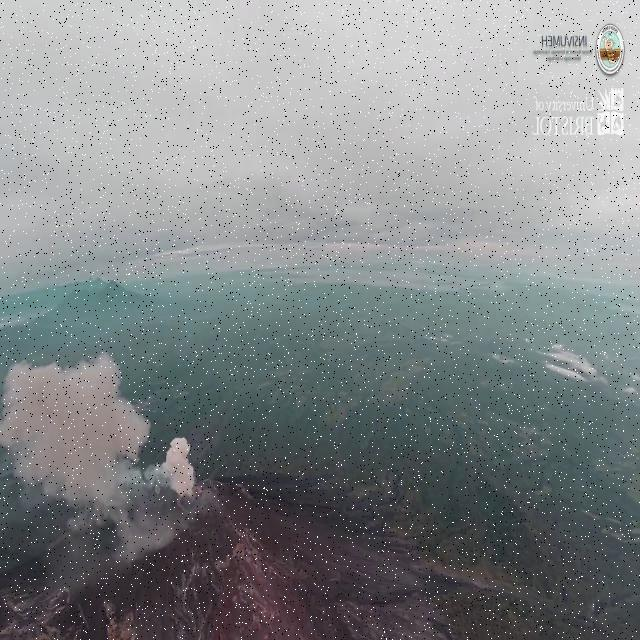Plume: (0, 346, 147, 511), (164, 433, 194, 503)
Summit: (189, 472, 220, 517)
